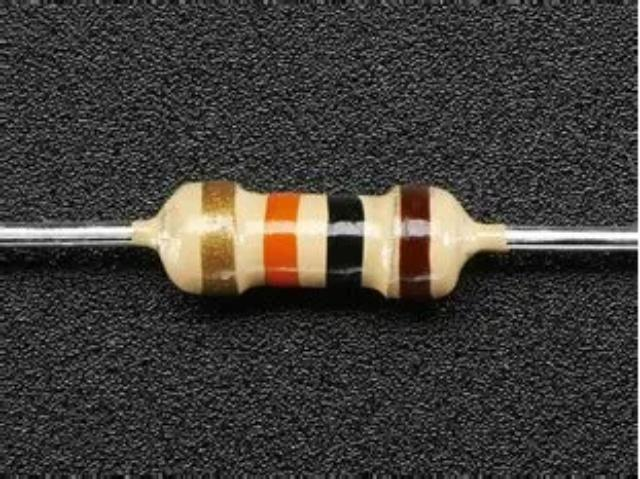black: (325, 191, 365, 298)
brown: (397, 180, 432, 311)
gold: (199, 180, 240, 301)
orange: (267, 188, 298, 298)
resistor: (130, 135, 506, 340)
